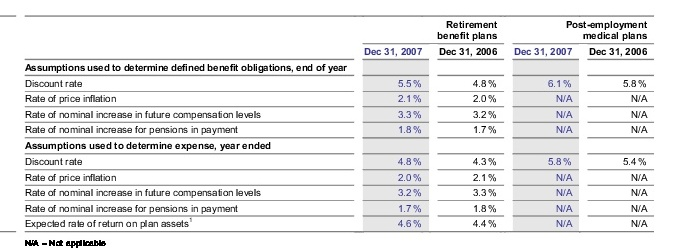table: (0, 0, 676, 250)
